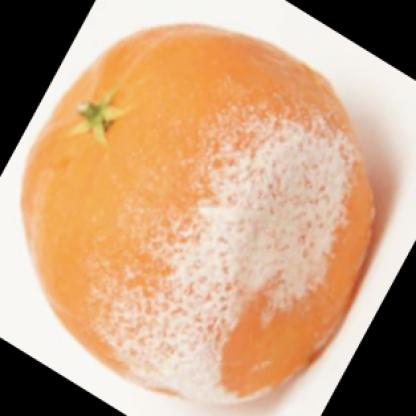rotten: (24, 24, 375, 402)
